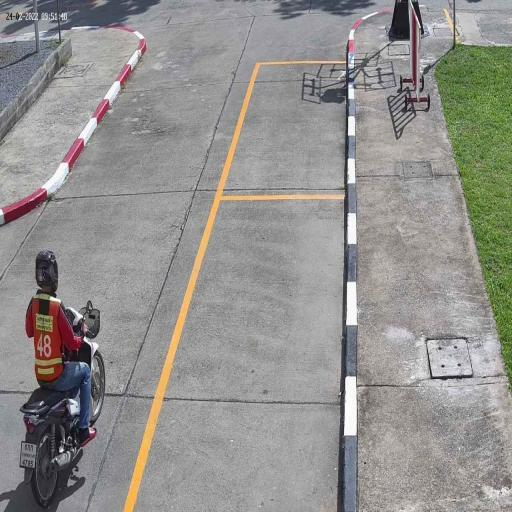motorcycle: (19, 344, 107, 510)
